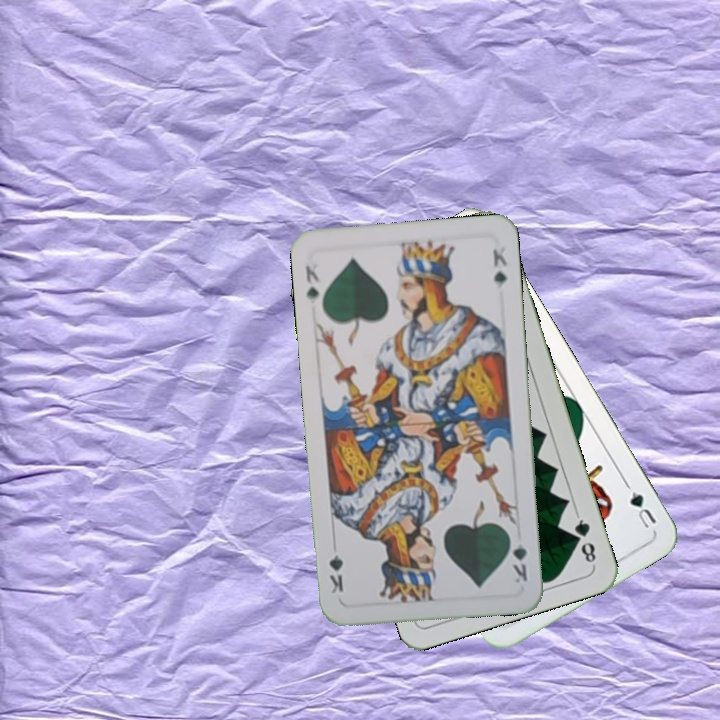G8: (570, 511, 599, 568)
GK: (505, 529, 530, 586), (301, 261, 324, 307)
GU: (625, 487, 659, 531)
